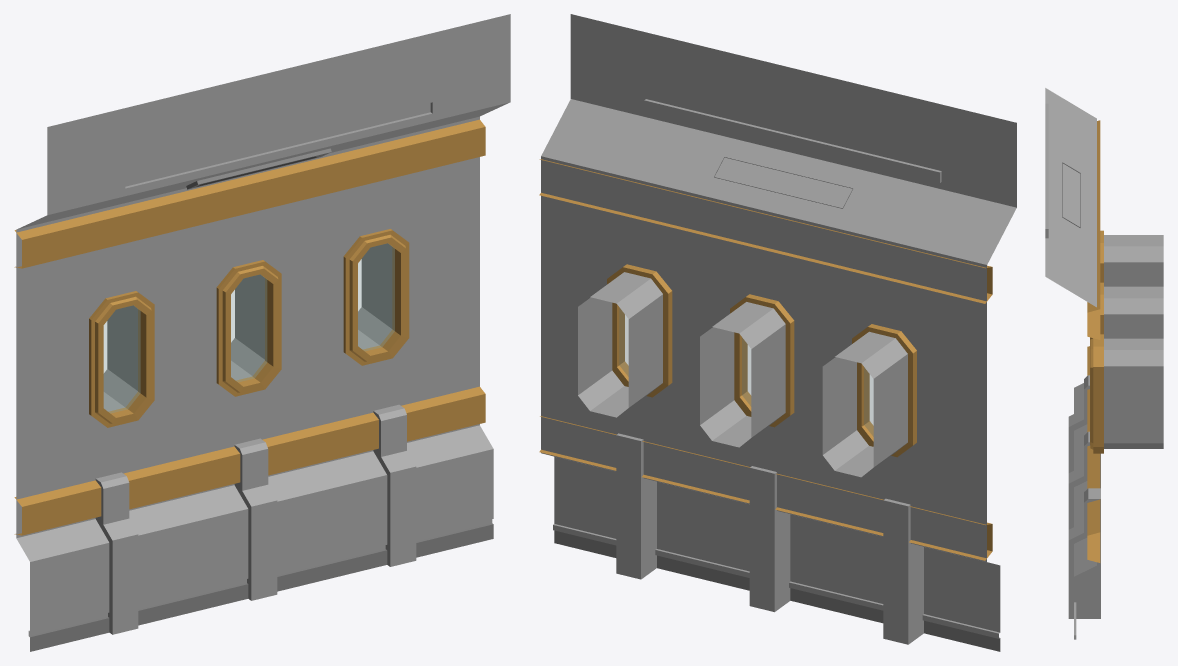
The model's file is ThreeWindows_Wall_SideA.gltf.
The picture shows the model from 3 angles, left to right: view 1: azimuth 30°, elevation 25°; view 2: azimuth 150°, elevation 25°; view 3: azimuth 270°, elevation 25°; orthographic projection. The views are drawn at different scales.
Visible parts, largest first — view 1: ThreeWindows_Wall_SideA; view 2: ThreeWindows_Wall_SideA; view 3: ThreeWindows_Wall_SideA.
Boxes of the visible parts, left/top/right/bottom form: ThreeWindows_Wall_SideA: left=14, top=14, right=510, bottom=651; ThreeWindows_Wall_SideA: left=539, top=14, right=1016, bottom=651; ThreeWindows_Wall_SideA: left=1045, top=88, right=1163, bottom=639.
Size of the model in its own units: 4 by 4.43 by 1.06.
